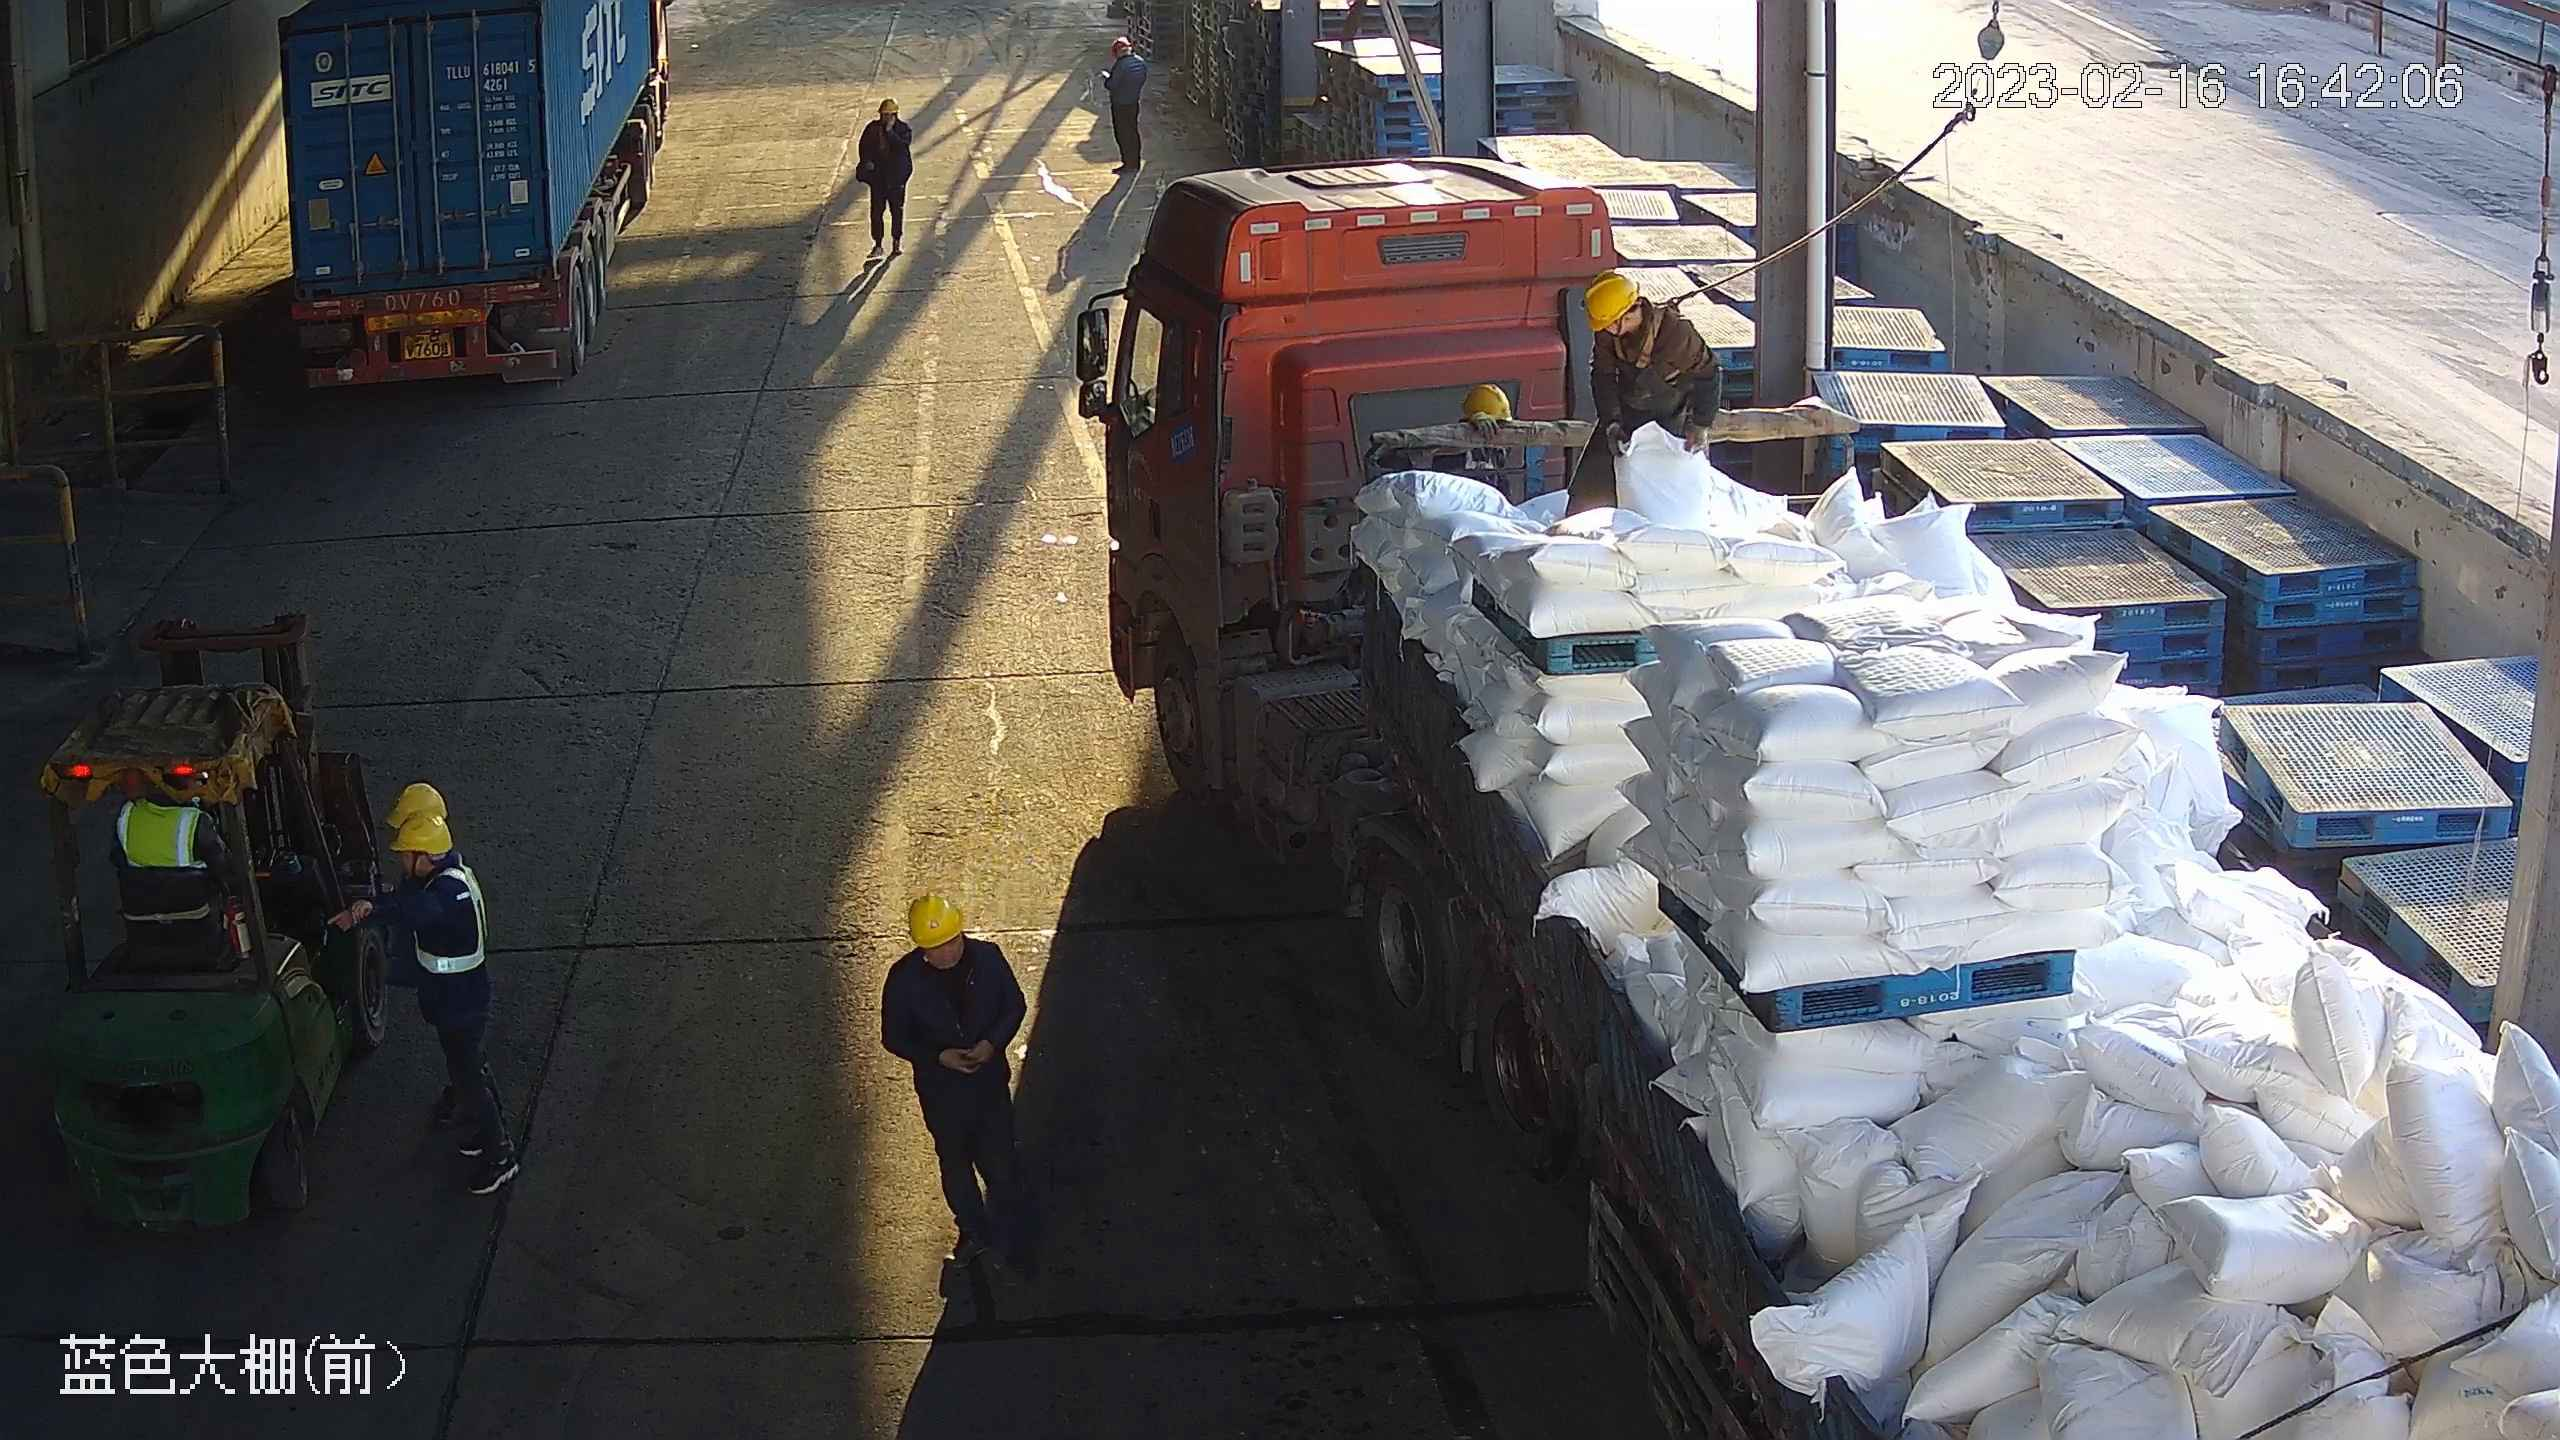belt: (1616, 289, 1701, 371)
head: (344, 808, 484, 941), (890, 892, 1014, 1012), (1580, 269, 1681, 379), (858, 96, 911, 148), (1101, 35, 1150, 82)
helmet: (1581, 272, 1639, 329), (906, 894, 965, 948), (388, 811, 456, 856), (386, 783, 449, 826), (1463, 384, 1515, 419), (878, 97, 899, 116), (1110, 36, 1131, 54)
people: (335, 808, 522, 1193), (882, 890, 1048, 1271), (1564, 270, 1726, 518), (857, 96, 913, 258), (1101, 37, 1149, 174)
truck: (1067, 148, 2560, 1440), (276, 5, 678, 406)
